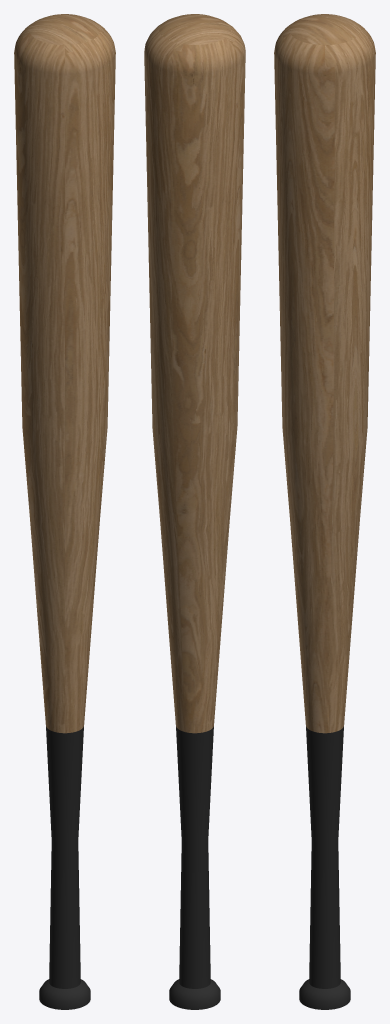
File: bat.glb
3 views of the same model, side by side, from view 1: azimuth 90°, elevation 25°; view 2: azimuth 150°, elevation 25°; view 3: azimuth 270°, elevation 25° (orthographic).
Parts seen in each view (by area): view 1: Sphere; view 2: Sphere; view 3: Sphere.
Part boxes in pixels (<box>): Sphere: <box>14,14,115,1009</box>; Sphere: <box>144,14,245,1009</box>; Sphere: <box>274,14,375,1009</box>.
Size of the model in its own units: 0.4846 by 5.14 by 0.4846.
Materials: 2 (1 with a texture image).
